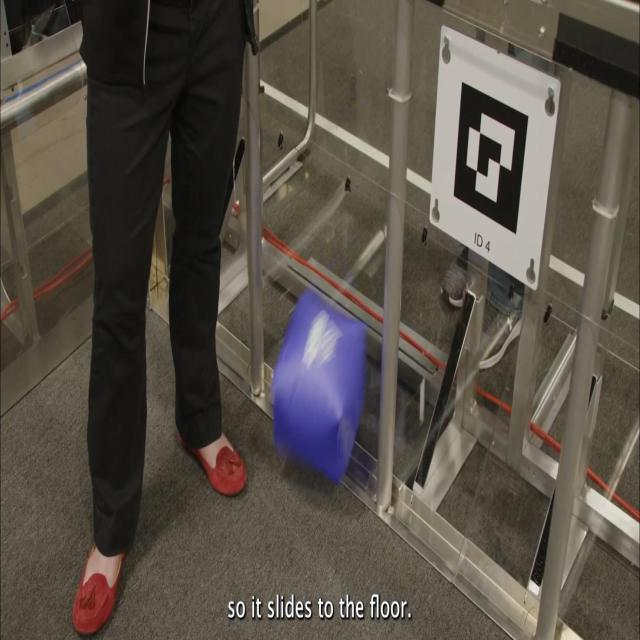frc_cube: (272, 293, 368, 482)
